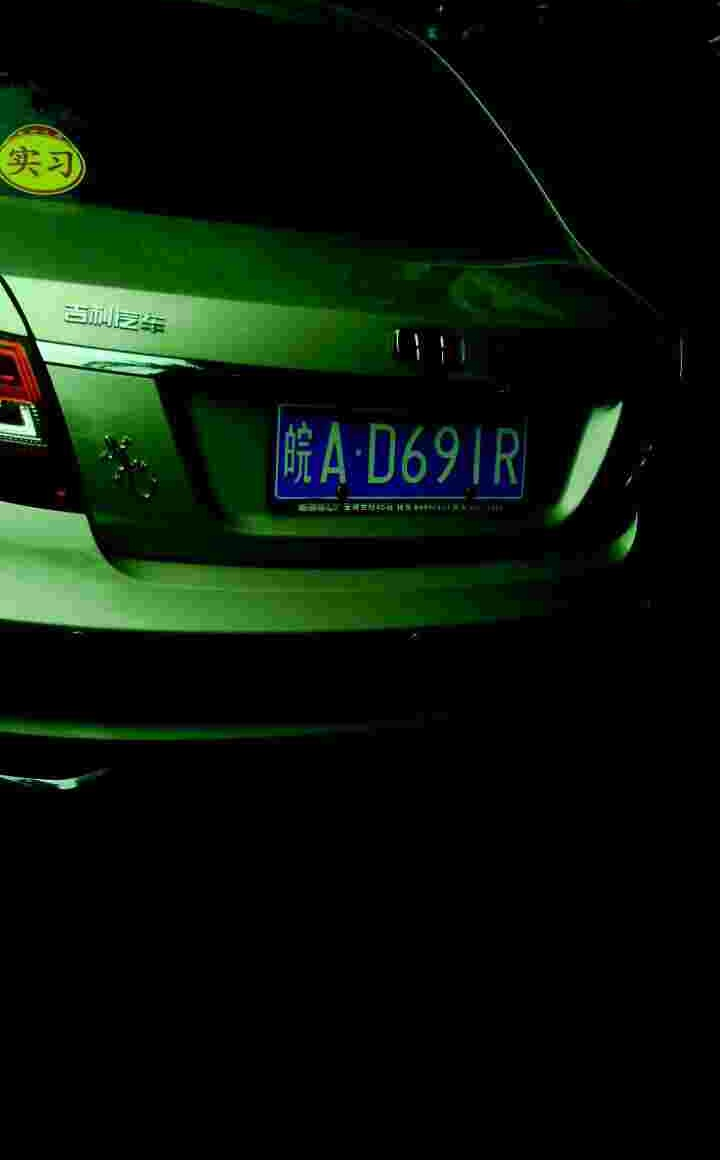license_plate: (258, 409, 540, 512)
